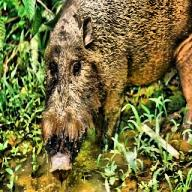boar: (40, 0, 192, 182)
